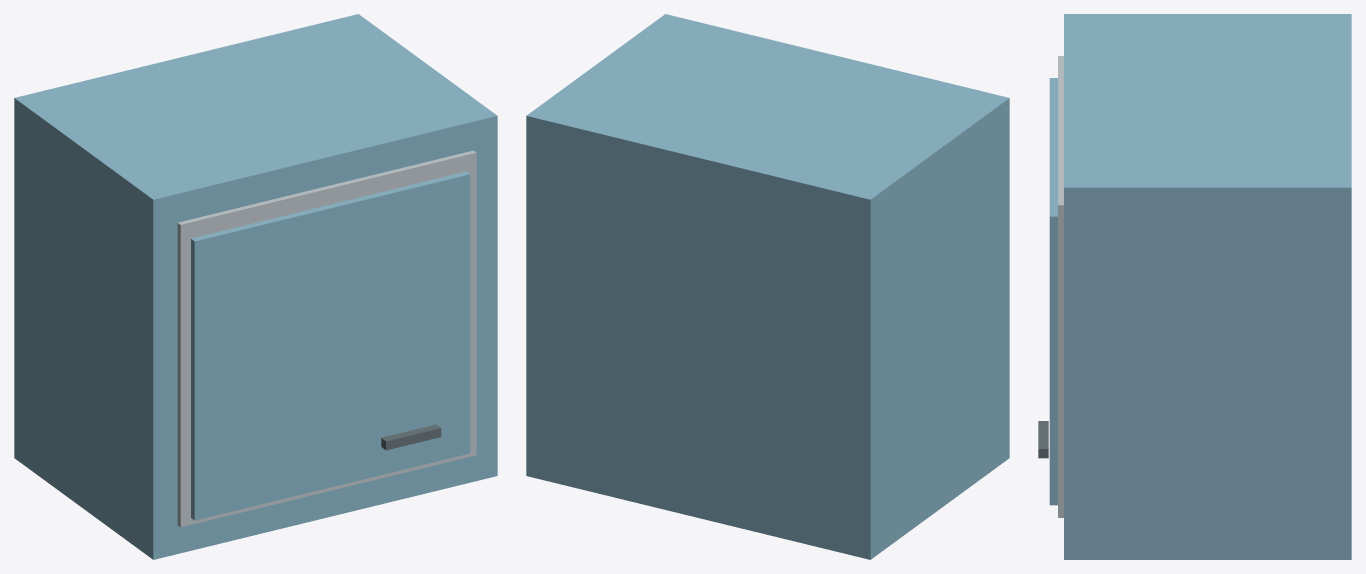
Rendered from locker.glb.
3 renders of one model, left to right at view 1: azimuth 30°, elevation 25°; view 2: azimuth 150°, elevation 25°; view 3: azimuth 270°, elevation 25°, orthographic. The views are drawn at different scales.
Size of the model in its own units: 1 by 1 by 0.7625.
